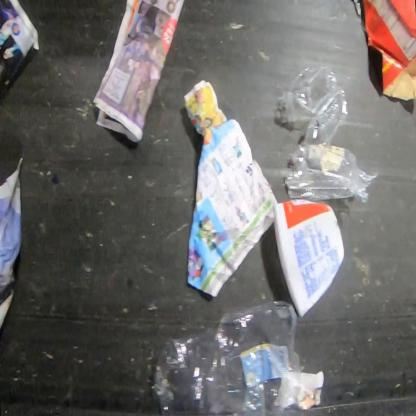cardboard: (361, 0, 415, 103)
rigid_plastic: (278, 64, 378, 204), (273, 198, 346, 318)
soft_plastic: (154, 300, 302, 415)
